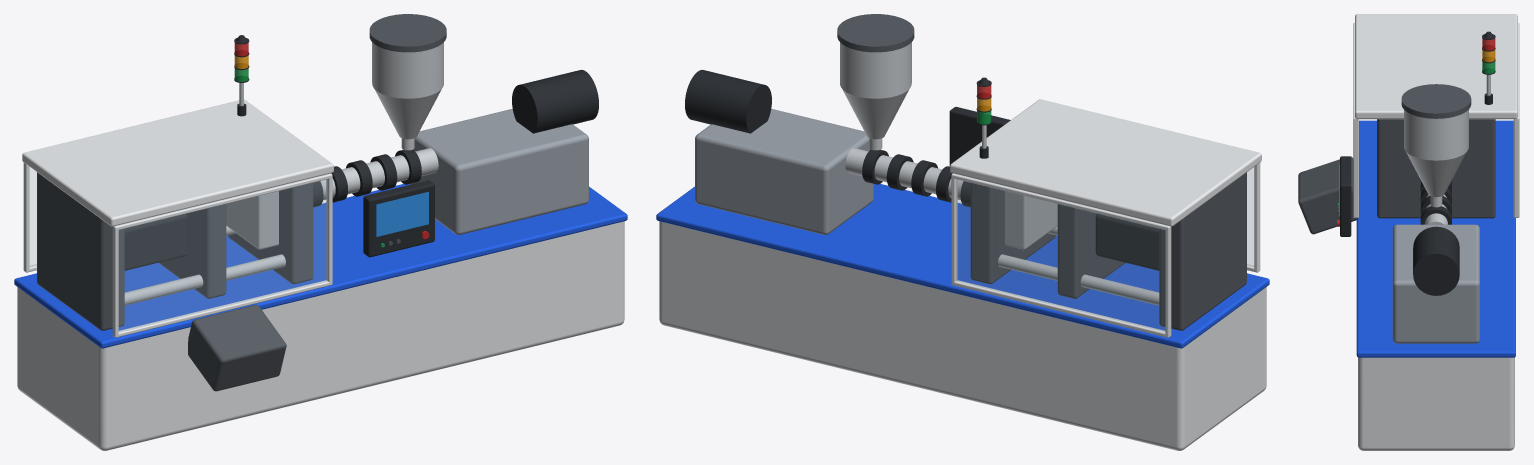
Rendered from injection-molder.glb.
3 renders of one model, left to right at view 1: azimuth 30°, elevation 25°; view 2: azimuth 150°, elevation 25°; view 3: azimuth 270°, elevation 25°, orthographic. The views are drawn at different scales.
Visible parts, largest first — view 1: injection_molder_paint_white, injection_molder_dark_steel, injection_molder_glass, injection_molder_accent_blue, injection_molder_paint_grey, injection_molder_graphite, injection_molder_steel, injection_molder_screen; view 2: injection_molder_paint_white, injection_molder_accent_blue, injection_molder_glass, injection_molder_dark_steel, injection_molder_paint_grey, injection_molder_steel, injection_molder_graphite; view 3: injection_molder_paint_white, injection_molder_accent_blue, injection_molder_dark_steel, injection_molder_paint_grey, injection_molder_graphite, injection_molder_steel.
Boxes of the visible parts, x1,y1,x2,y2 form: injection_molder_paint_white: [17, 99, 624, 450]; injection_molder_dark_steel: [37, 14, 446, 391]; injection_molder_glass: [30, 167, 327, 331]; injection_molder_accent_blue: [14, 184, 627, 348]; injection_molder_paint_grey: [410, 109, 588, 234]; injection_molder_graphite: [124, 35, 598, 270]; injection_molder_steel: [124, 42, 443, 305]; injection_molder_screen: [376, 192, 428, 236]; injection_molder_paint_white: [659, 99, 1266, 450]; injection_molder_accent_blue: [656, 184, 1269, 348]; injection_molder_glass: [956, 167, 1253, 331]; injection_molder_dark_steel: [837, 14, 1246, 330]; injection_molder_paint_grey: [695, 109, 873, 234]; injection_molder_steel: [840, 42, 1159, 305]; injection_molder_graphite: [685, 69, 1159, 270]; injection_molder_paint_white: [1353, 14, 1519, 450]; injection_molder_accent_blue: [1356, 120, 1515, 357]; injection_molder_dark_steel: [1298, 84, 1495, 234]; injection_molder_paint_grey: [1392, 224, 1479, 343]; injection_molder_graphite: [1340, 31, 1495, 295]; injection_molder_steel: [1404, 74, 1490, 224].
Bounding box in the file's own units: 4.73 × 2.68 × 1.9.
